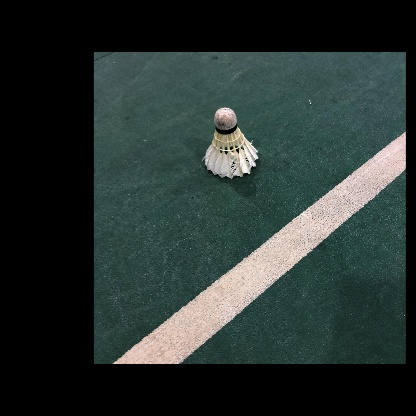ball_single: (205, 108, 258, 179)
